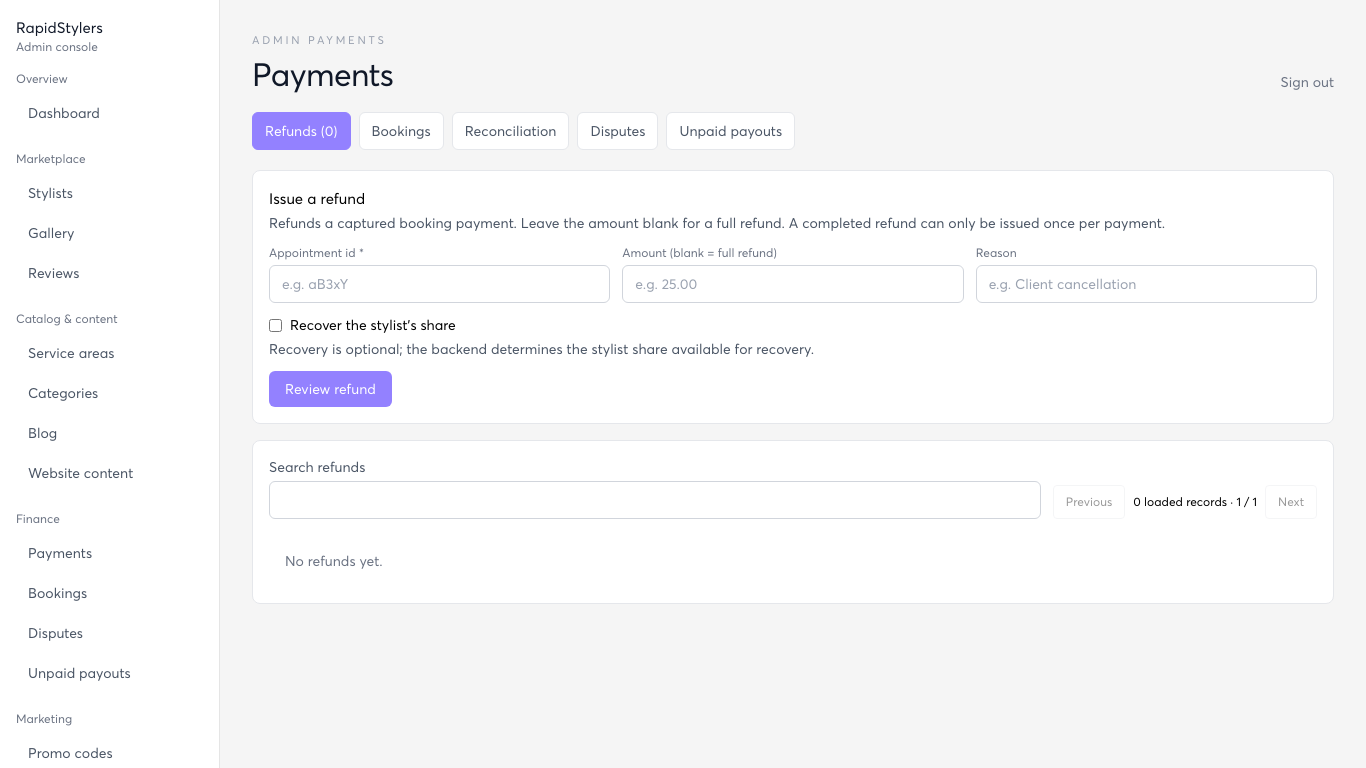
Test: loads unpaid payouts only on demand and shows the hold reason in words
The image size is (1366, 768).
Check: the text "No refunds yet." is shown, box top-left (285, 552), bottom-right (382, 569)
Step 1. Click the button "Unpaid payouts" → (731, 131), box top-left (666, 112), bottom-right (795, 150)
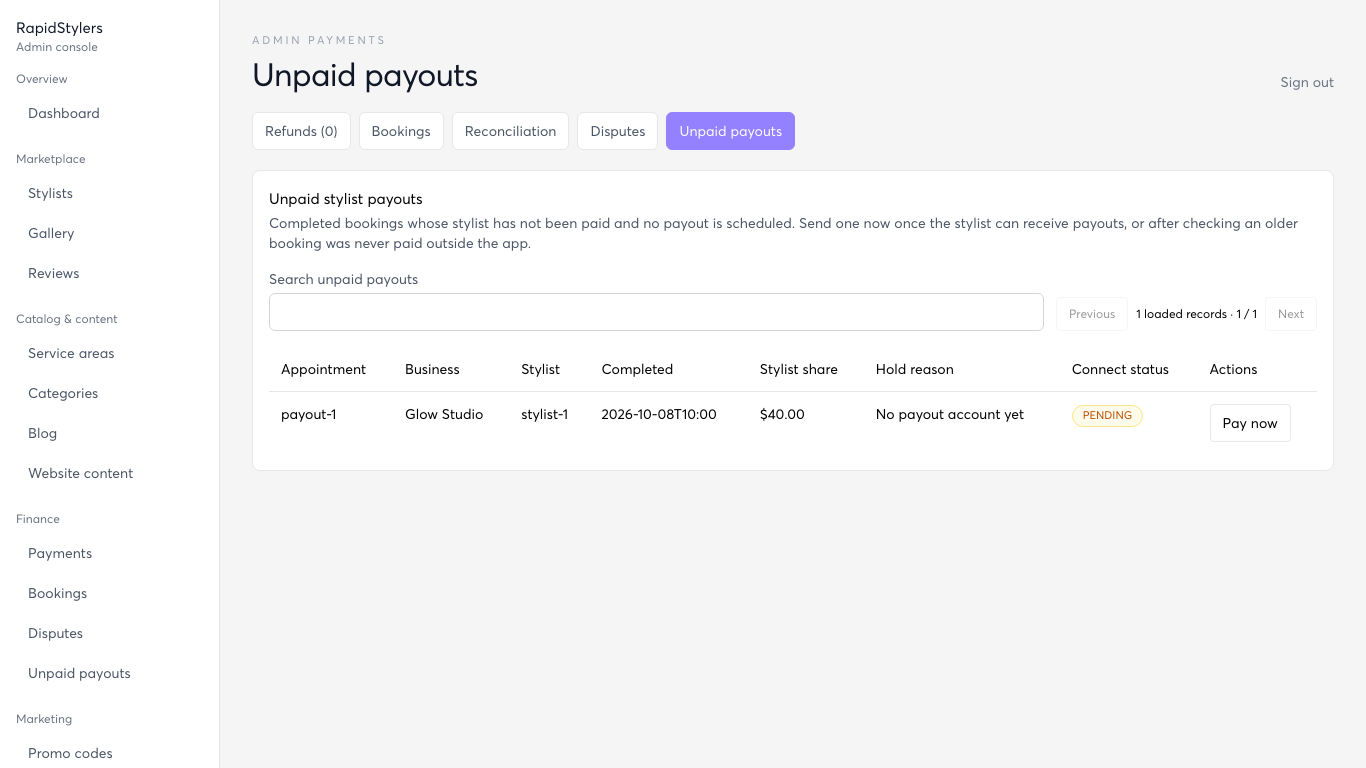
Check: the text "Glow Studio" is shown, box top-left (393, 392), bottom-right (509, 454)
Check: the text "No payout account yet" is shown, box top-left (864, 392), bottom-right (1060, 454)
Check: the text "PENDING" is shown, box top-left (1072, 405), bottom-right (1143, 427)
